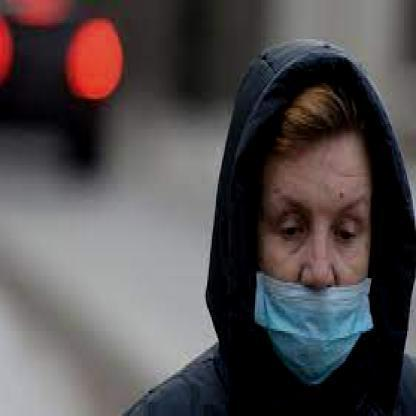mask_weared_incorrect: (252, 91, 382, 392)
